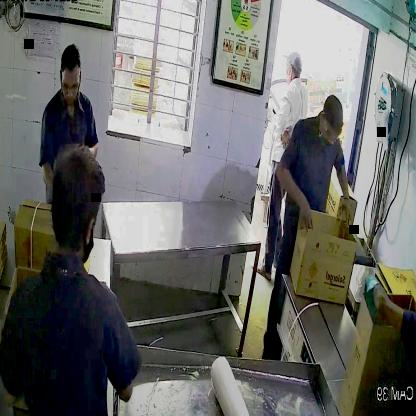goggles: (319, 122, 345, 146)
